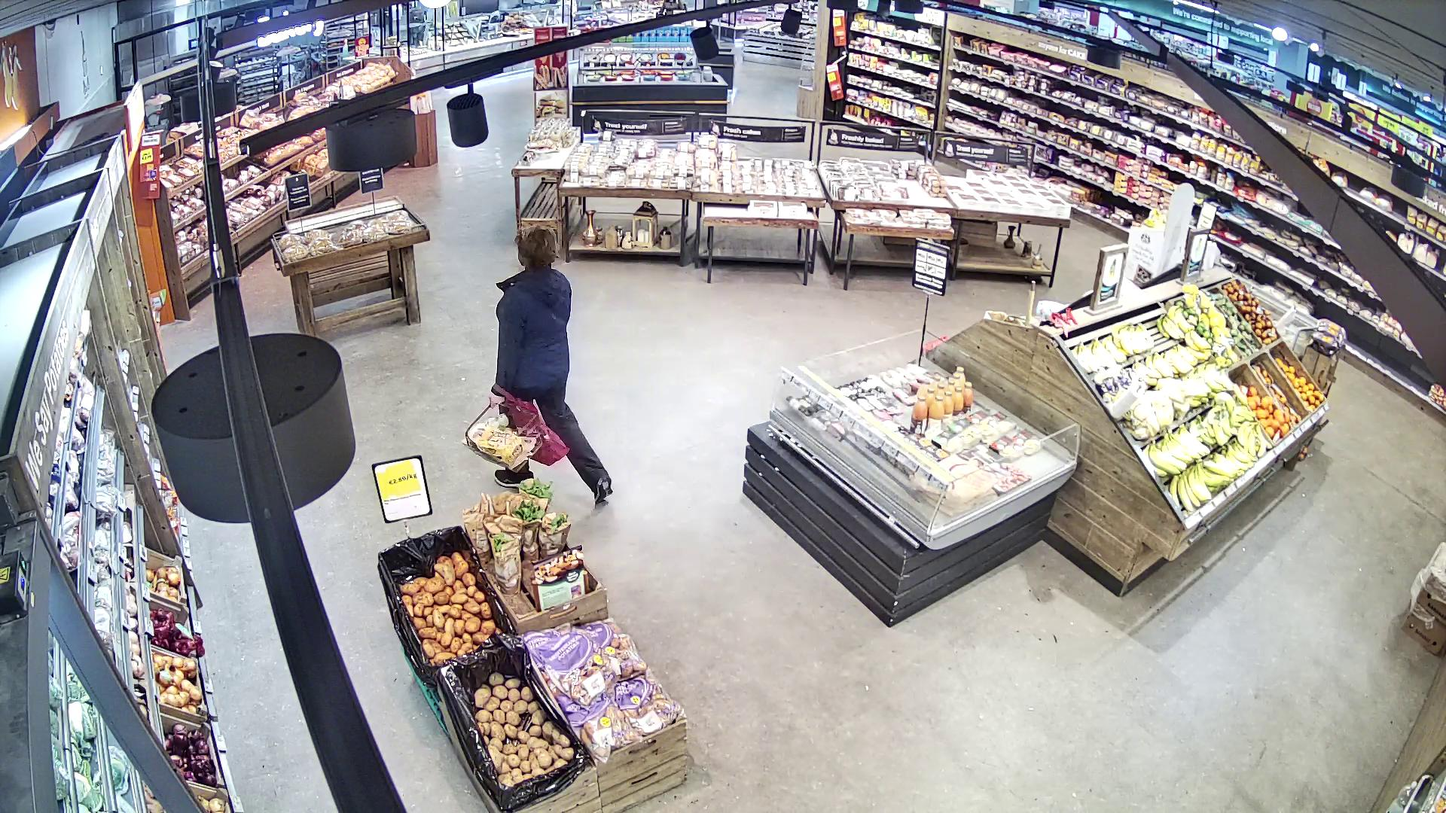filled-basket: (462, 400, 542, 472)
filled-shopping-bags: (492, 383, 570, 466)
person: (491, 225, 613, 504)
person-with-basket-trolly-and-shopping-bag: (462, 225, 613, 503)
